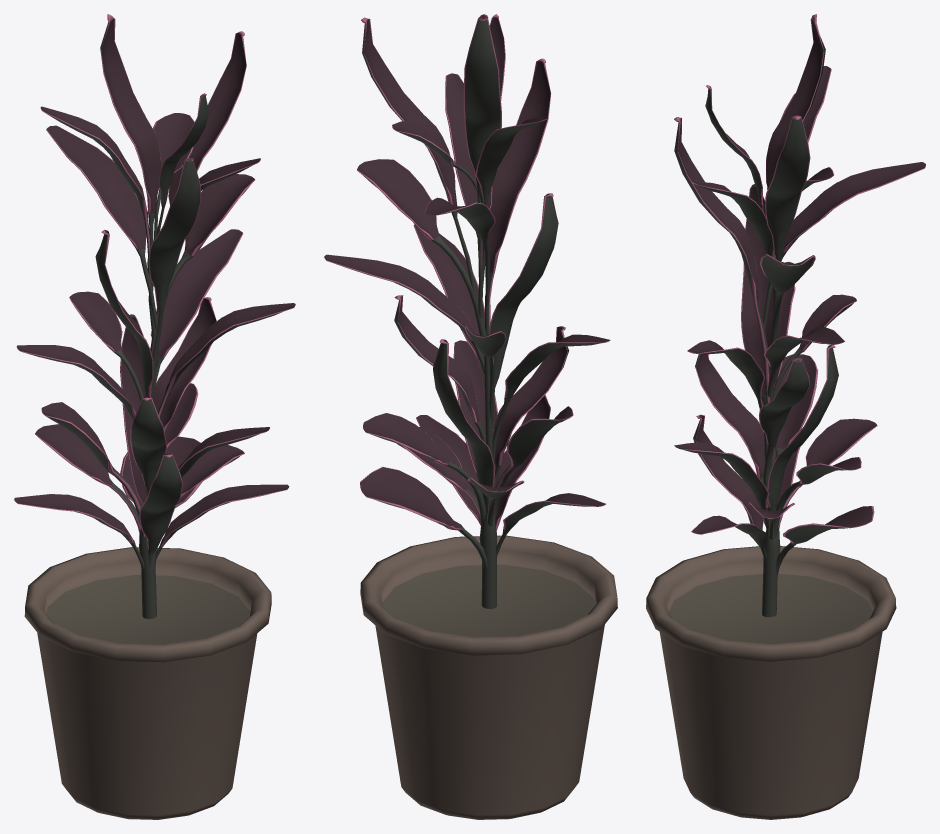
Rendered from C3_HugePlant.fbx.
3 renders of one model, left to right at view 1: azimuth 30°, elevation 25°; view 2: azimuth 150°, elevation 25°; view 3: azimuth 270°, elevation 25°, orthographic. The views are drawn at different scales.
Visible parts, largest first — view 1: pCylinder38; view 2: pCylinder38; view 3: pCylinder38.
Part boxes in pixels (x1,y1,x2,y2): pCylinder38: [14, 14, 295, 819]; pCylinder38: [324, 14, 617, 819]; pCylinder38: [646, 14, 925, 819].
Size of the model in its own units: 3.35 by 9.83 by 3.26.
